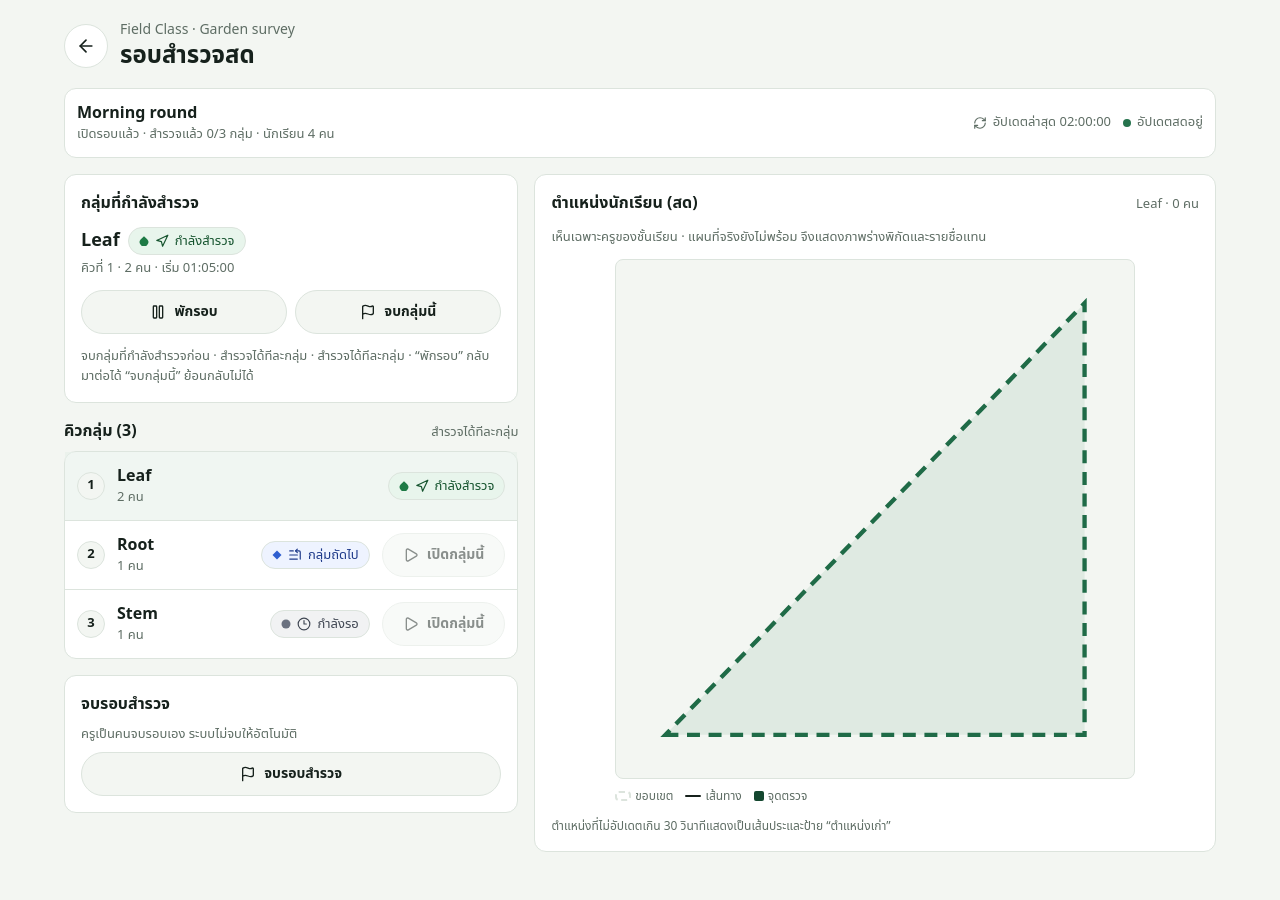
TeacherSessionLive › confirms before completing the current group and names who is affected
The width and height of the screenshot is (1280, 900).
Click the button "จบกลุ่มนี้": x=398, y=312 [295,290,501,334]
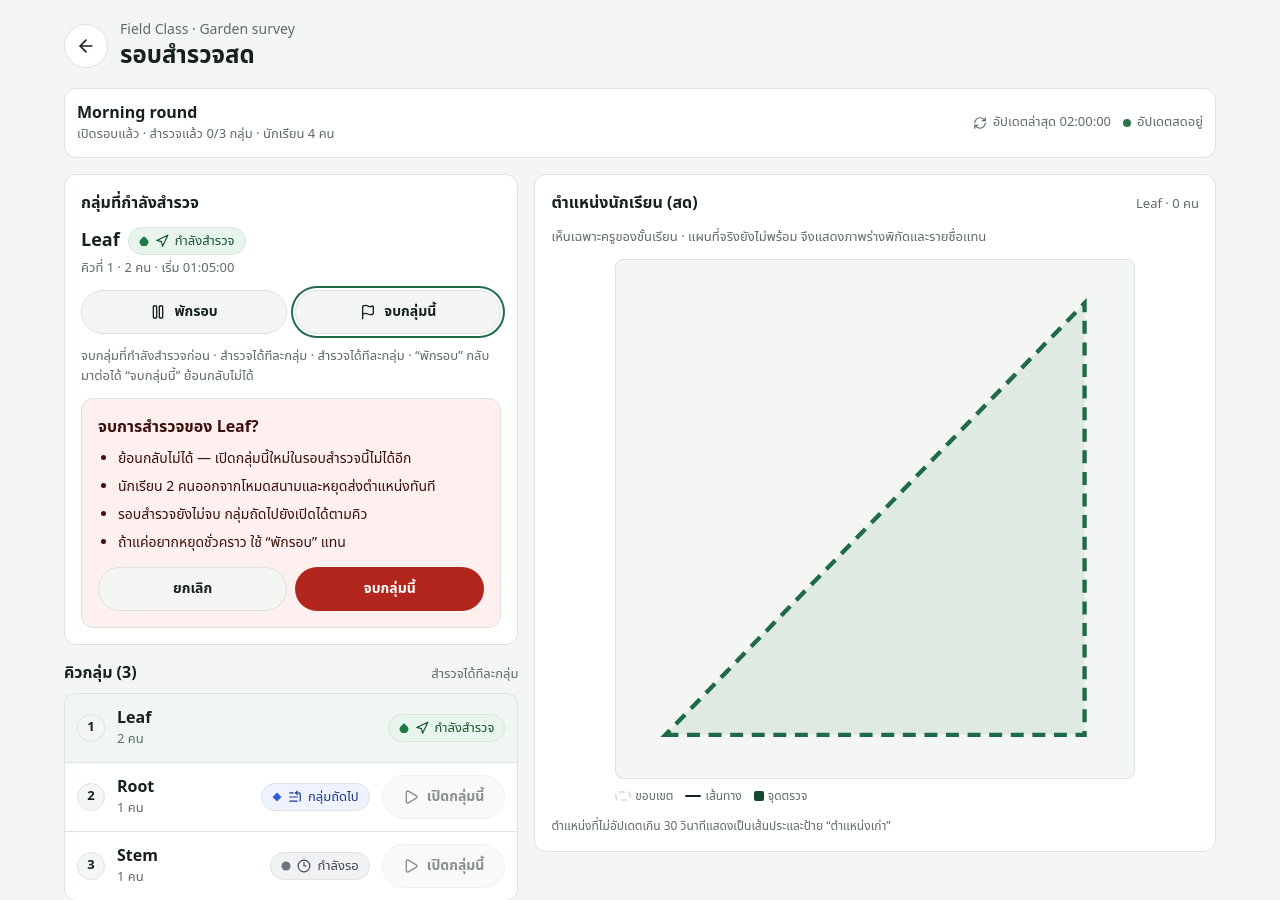
expect the dialog "จบการสำรวจของ Leaf?" shows "ย้อนกลับไม่ได้": met, box [118,448,412,469]
expect the dialog "จบการสำรวจของ Leaf?" shows "นักเรียน 2 คนออกจากโหมดสนามและหยุดส่งตำแหน่งทันที": met, box [81,398,501,628]
Click the button "ยกเลิก": x=193, y=589 [98,567,287,611]
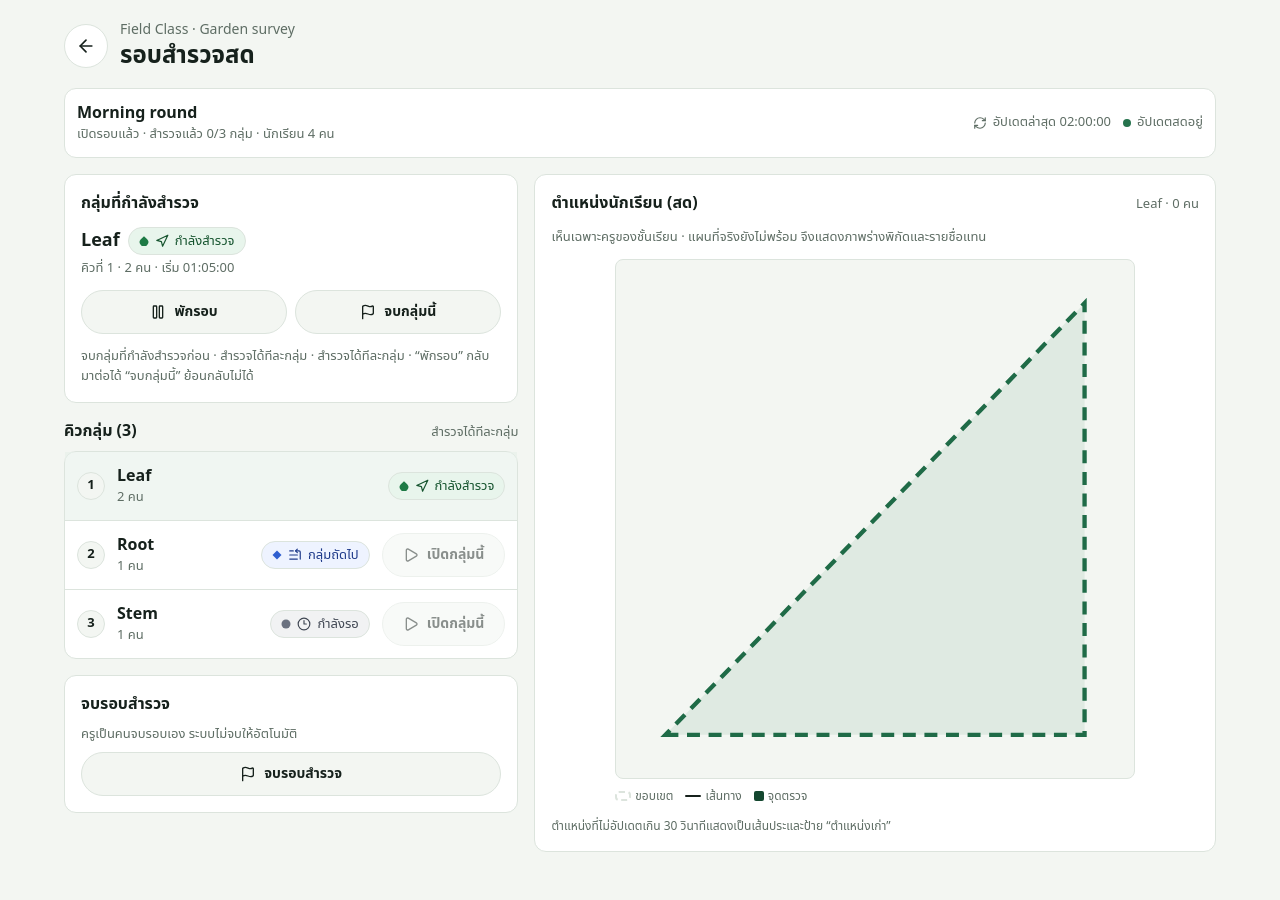
expect the dialog is gone: met
Click the button "จบกลุ่มนี้": x=398, y=312 [295,290,501,334]
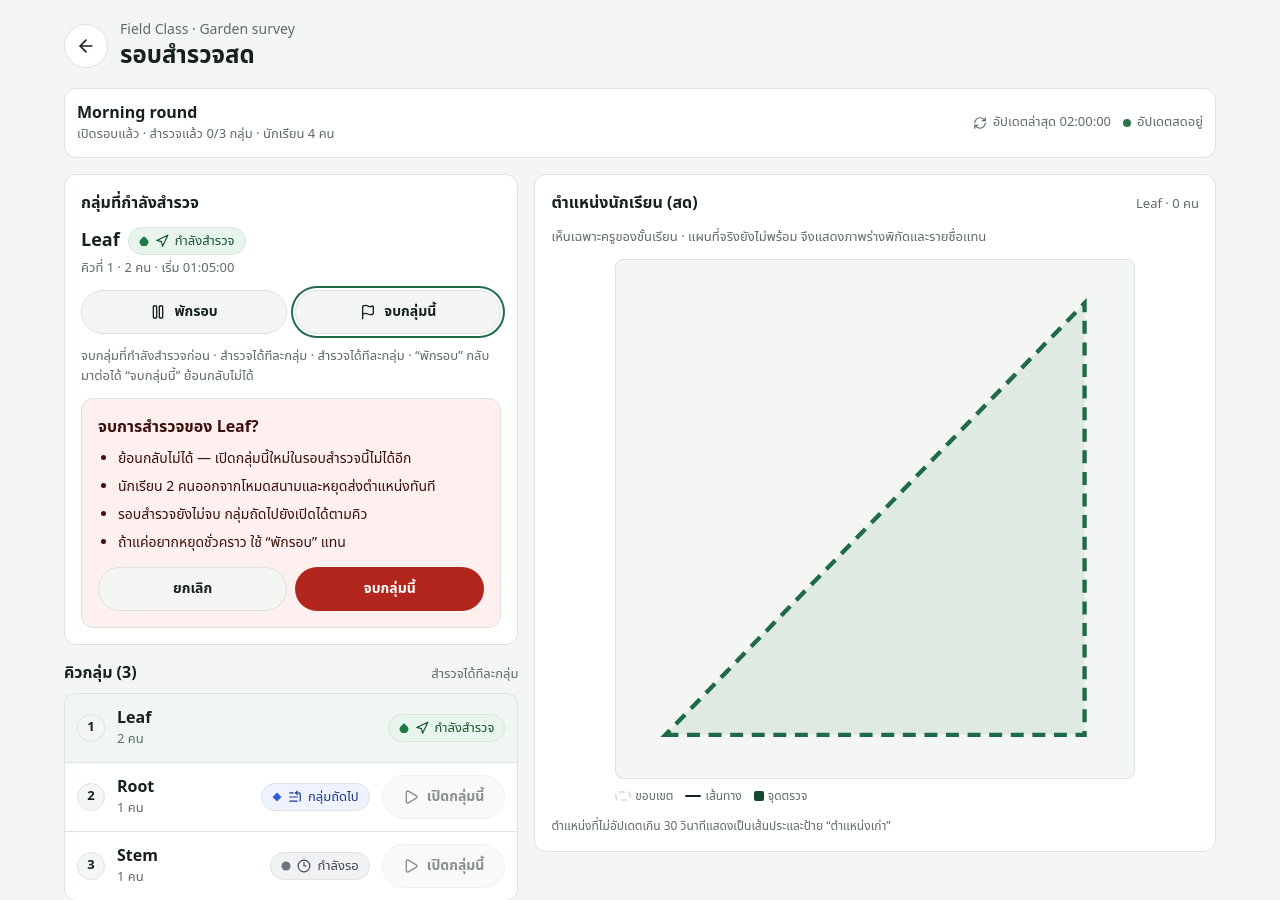
Click the button "จบกลุ่มนี้" below "ถ้าแค่อยากหยุดชั่วคราว ใช้ “พักรอบ” แทน": x=390, y=589 [295,567,484,611]
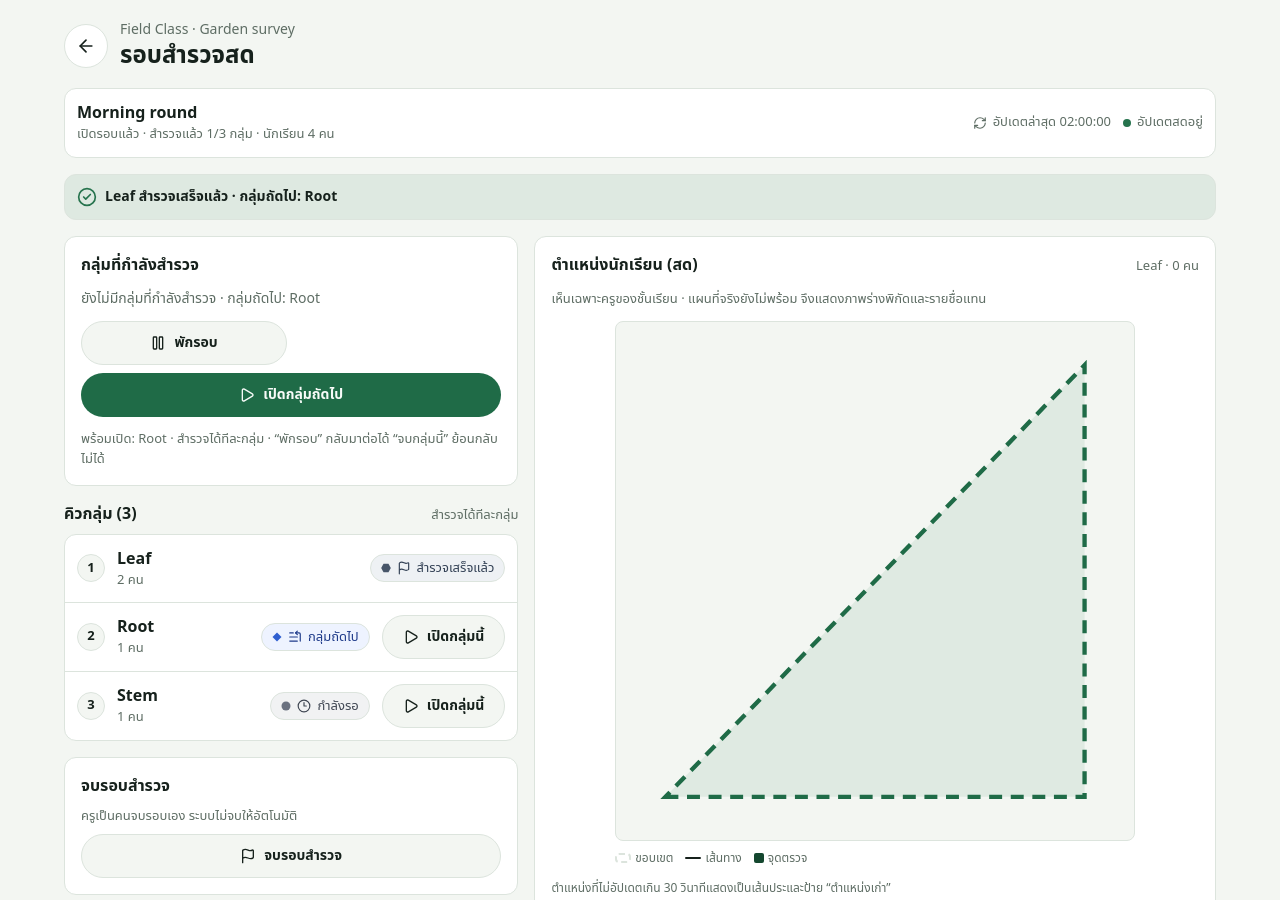
expect the text "Leaf สำรวจเสร็จแล้ว · กลุ่มถัดไป: Root" is shown: met, box [64,174,1216,220]
